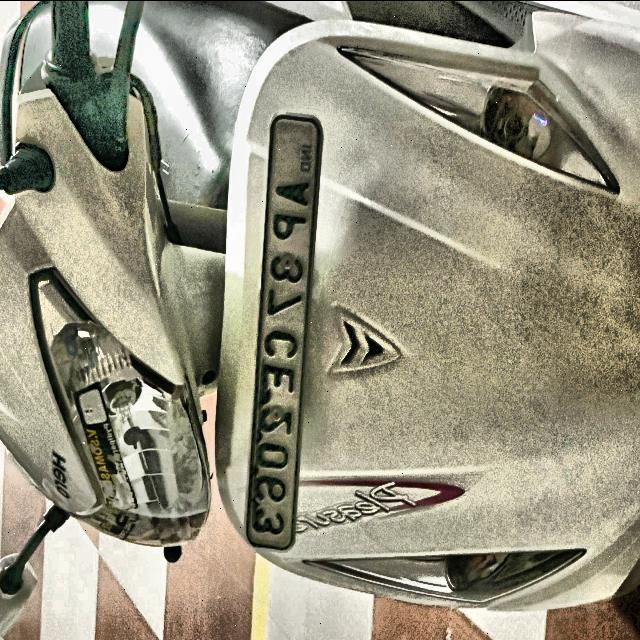license-plate: (247, 117, 319, 550)
